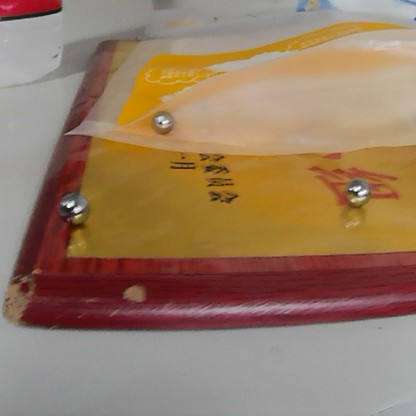ironball: (338, 170, 380, 219), (54, 185, 97, 223), (147, 105, 183, 135)
